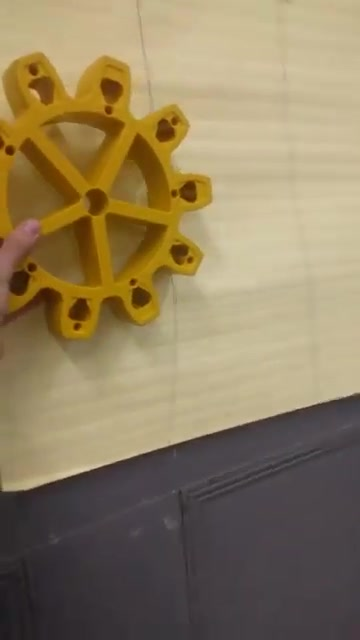gear: (1, 56, 208, 348)
